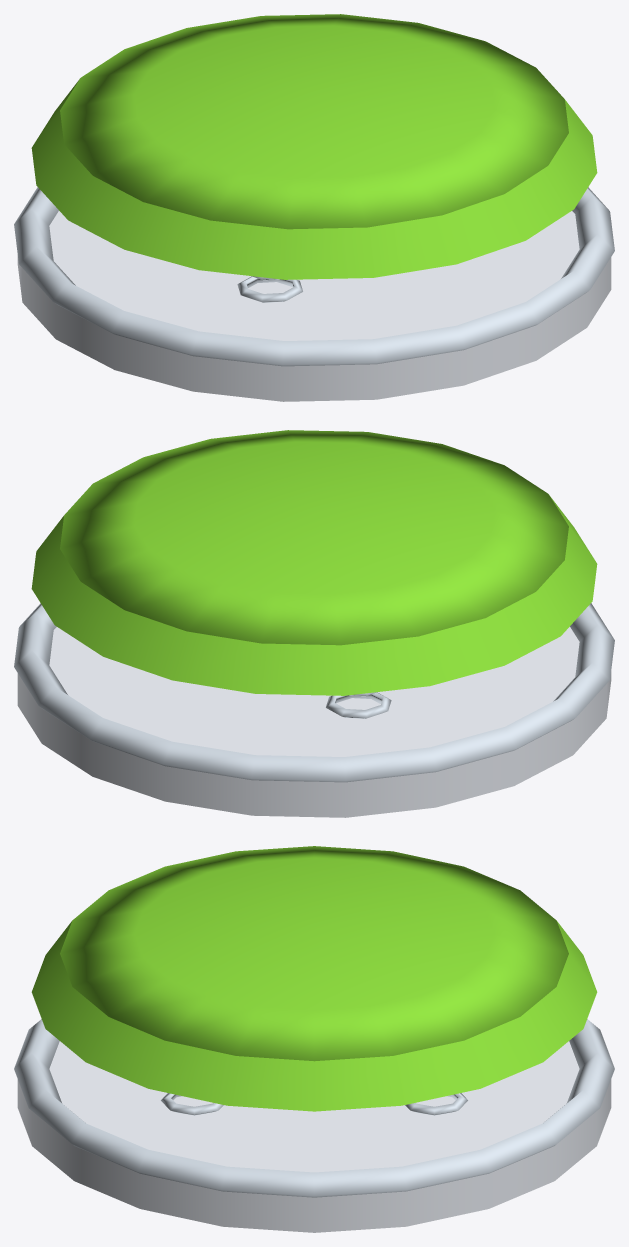
Rendered from BoingPad.fbx.
The picture shows the model from 3 angles, top to bottom: view 1: azimuth 30°, elevation 25°; view 2: azimuth 150°, elevation 25°; view 3: azimuth 270°, elevation 25°; orthographic projection.
Visible parts, largest first — view 1: BoingPad; view 2: BoingPad; view 3: BoingPad.
Part boxes in pixels (x1=…): BoingPad: x1=14, y1=14, x2=614, y2=401; BoingPad: x1=14, y1=430, x2=614, y2=817; BoingPad: x1=14, y1=846, x2=614, y2=1232.
Bounding box in the file's own units: 0.85 × 0.2832 × 0.85.
